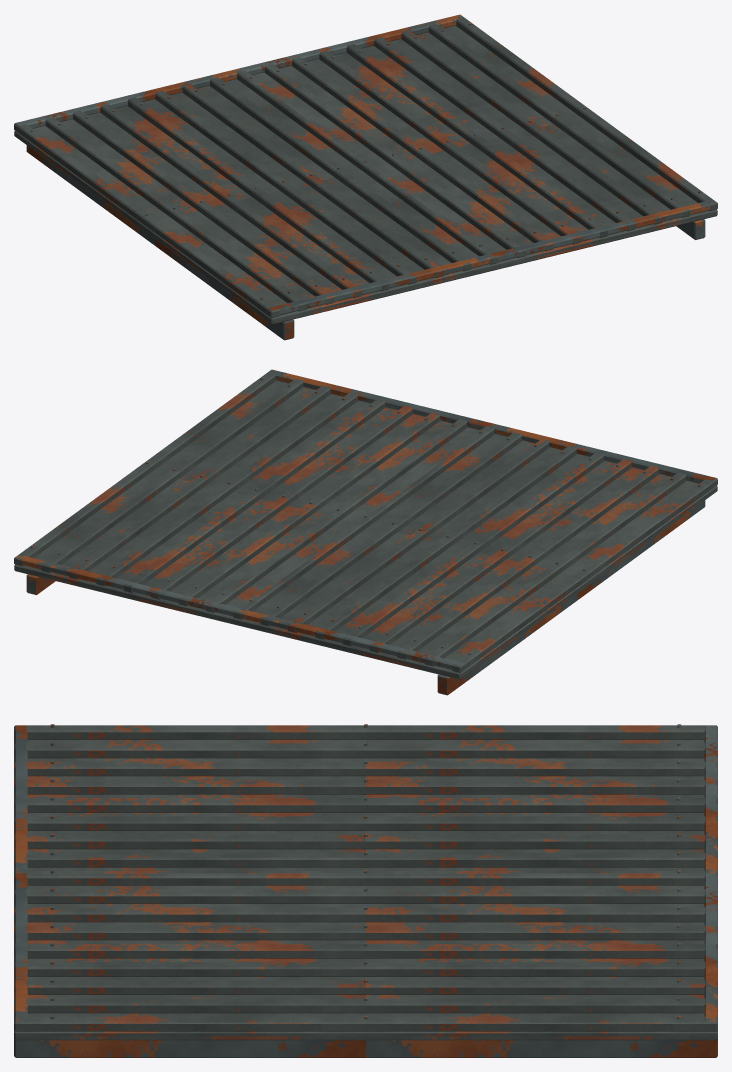
Rendered from roof_panel_4m_v03.glb.
The picture shows the model from 3 angles, top to bottom: view 1: azimuth 30°, elevation 25°; view 2: azimuth 150°, elevation 25°; view 3: azimuth 270°, elevation 25°; orthographic projection. The views are drawn at different scales.
Visible parts, largest first — view 1: roof_combined, steel_combined; view 2: roof_combined, steel_combined; view 3: roof_combined, steel_combined.
Part boxes in pixels (x1,y1,x2,y2): roof_combined: (14, 15, 717, 324); steel_combined: (16, 14, 715, 340); roof_combined: (14, 370, 717, 679); steel_combined: (16, 369, 715, 695); roof_combined: (14, 725, 717, 1040); steel_combined: (14, 724, 717, 1057).
Size of the model in its own units: 4.01 by 0.296 by 4.
Materials: 2 (2 with a texture image).
